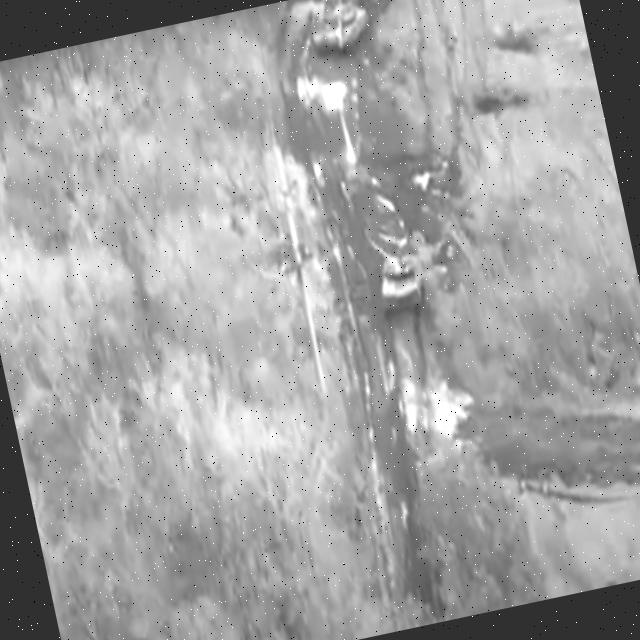MBT: (368, 227, 432, 317), (305, 1, 377, 63)
